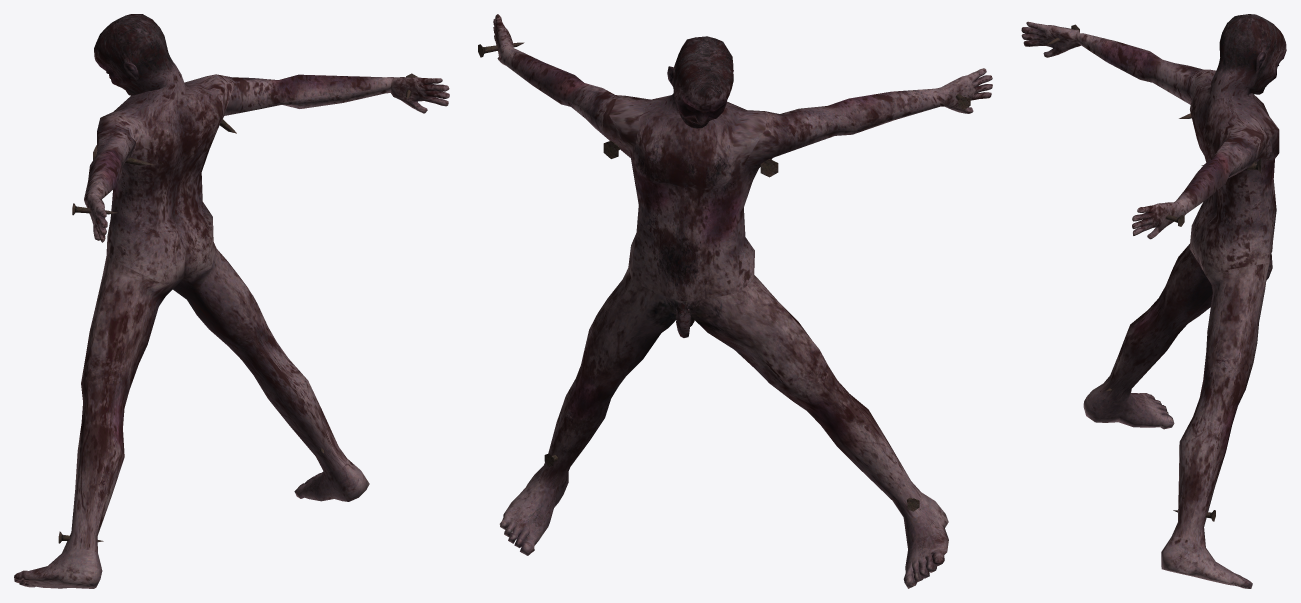
The model's file is corpse_male_plague_cistern.dae.
3 renders of one model, left to right at view 1: azimuth 30°, elevation 25°; view 2: azimuth 150°, elevation 25°; view 3: azimuth 270°, elevation 25°, orthographic. The views are drawn at different scales.
Parts seen in each view (by area): view 1: polySurface6, polySurface12; view 2: polySurface6, polySurface12; view 3: polySurface6, polySurface12.
Boxes of the visible parts, x1,y1,x2,y2 form: polySurface6: [14, 14, 449, 588]; polySurface12: [58, 73, 417, 543]; polySurface6: [493, 14, 992, 588]; polySurface12: [478, 42, 970, 511]; polySurface6: [1021, 14, 1286, 588]; polySurface12: [1047, 24, 1261, 521].
Size of the model in its own units: 1.53 by 1.79 by 0.8655.
